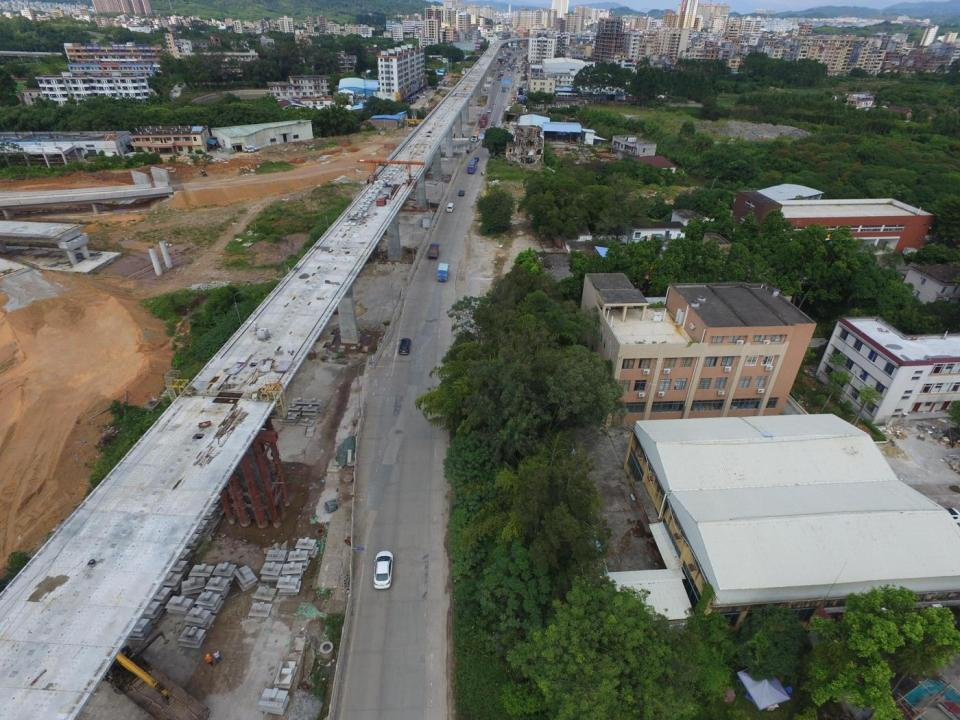bus: (468, 159, 478, 174)
car: (371, 552, 396, 590), (399, 340, 411, 358), (458, 190, 465, 196), (500, 87, 505, 93), (474, 157, 479, 162), (487, 109, 491, 113), (492, 121, 495, 125)
truck: (437, 262, 450, 282), (427, 243, 440, 258), (480, 114, 488, 127), (410, 96, 416, 105)
van: (446, 202, 454, 212)
